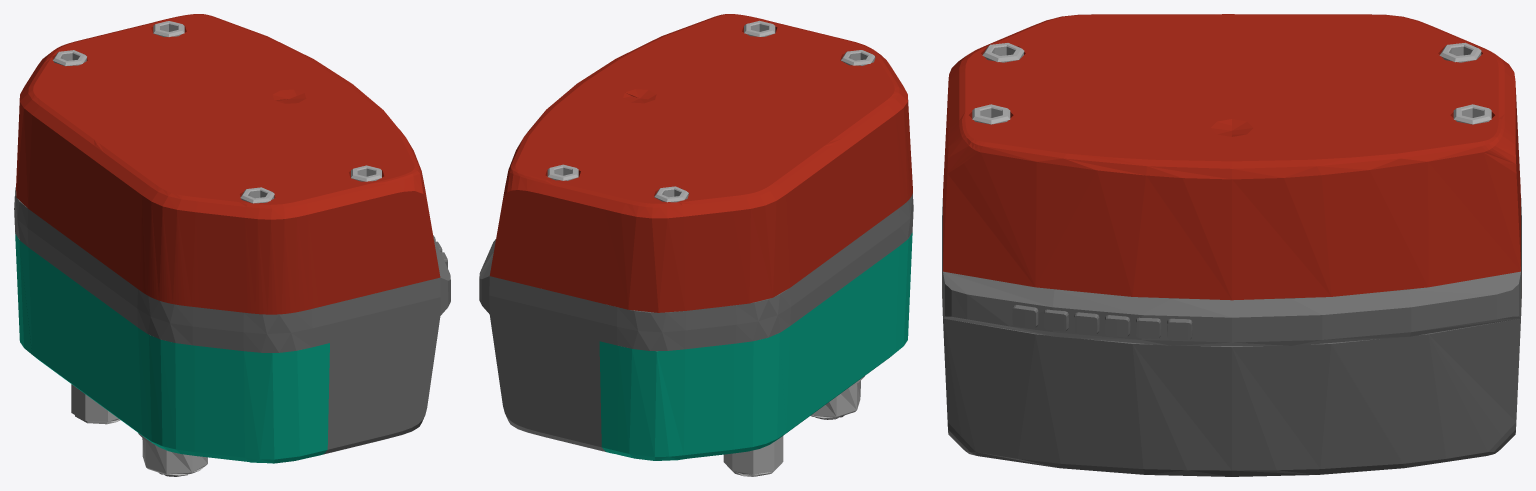
3 renders of one model, left to right at view 1: azimuth 30°, elevation 25°; view 2: azimuth 150°, elevation 25°; view 3: azimuth 270°, elevation 25°, orthographic. The views are drawn at different scales.
Visible parts, largest first — view 1: R2300; view 2: R2300; view 3: R2300.
Part boxes in pixels (x1=…): R2300: x1=14, y1=14, x2=450, y2=476; R2300: x1=479, y1=14, x2=913, y2=476; R2300: x1=942, y1=14, x2=1521, y2=476.
Bounding box in the file's own units: 69.45 × 95.14 × 68.6.
